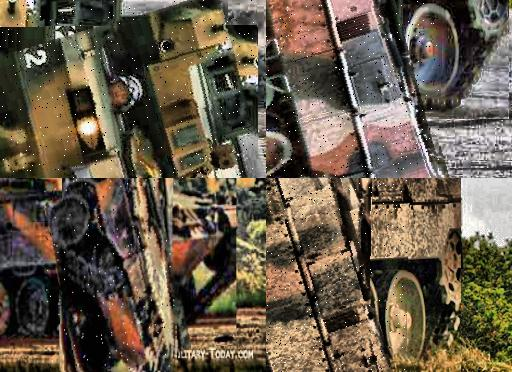tanks: (1, 1, 255, 179), (267, 1, 441, 179), (46, 179, 177, 372), (267, 179, 396, 372)
